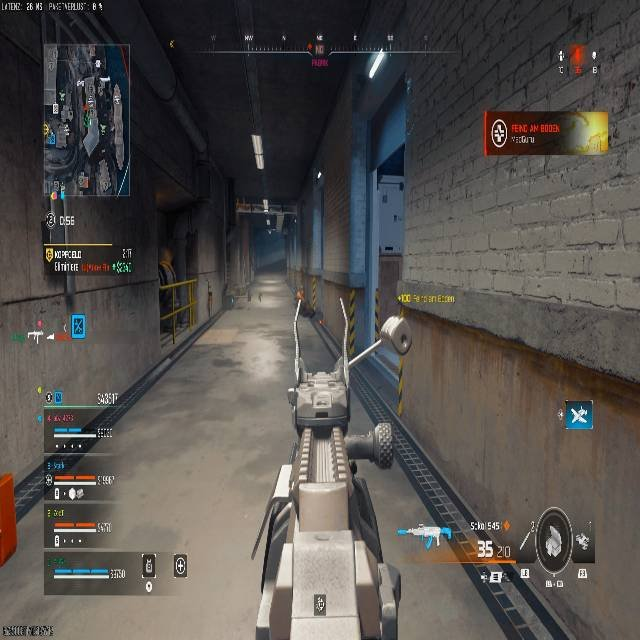head: (379, 315, 412, 354)
